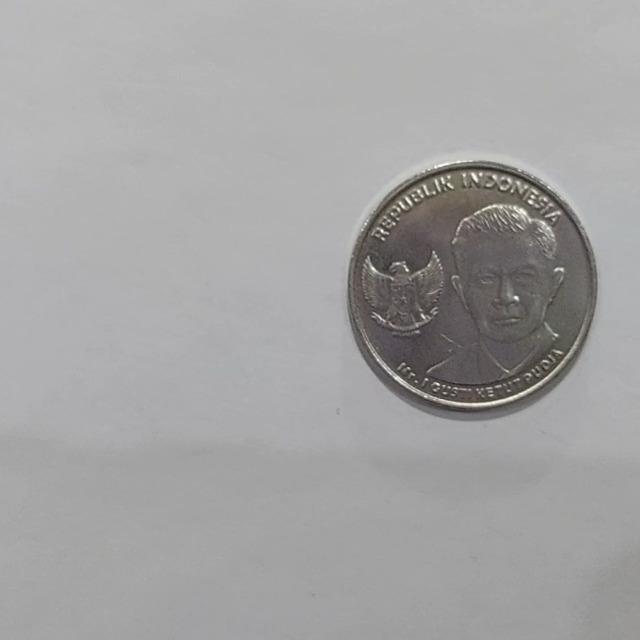Rp100: (346, 157, 598, 415)
